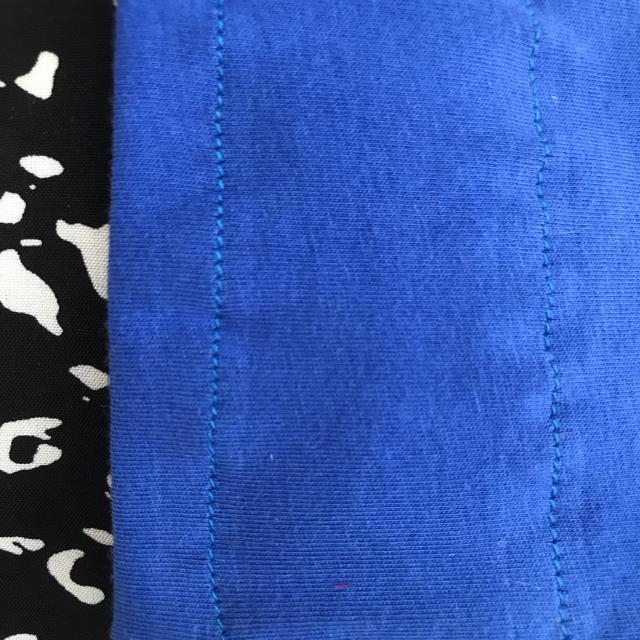good: (198, 128, 248, 329), (195, 392, 231, 536)
